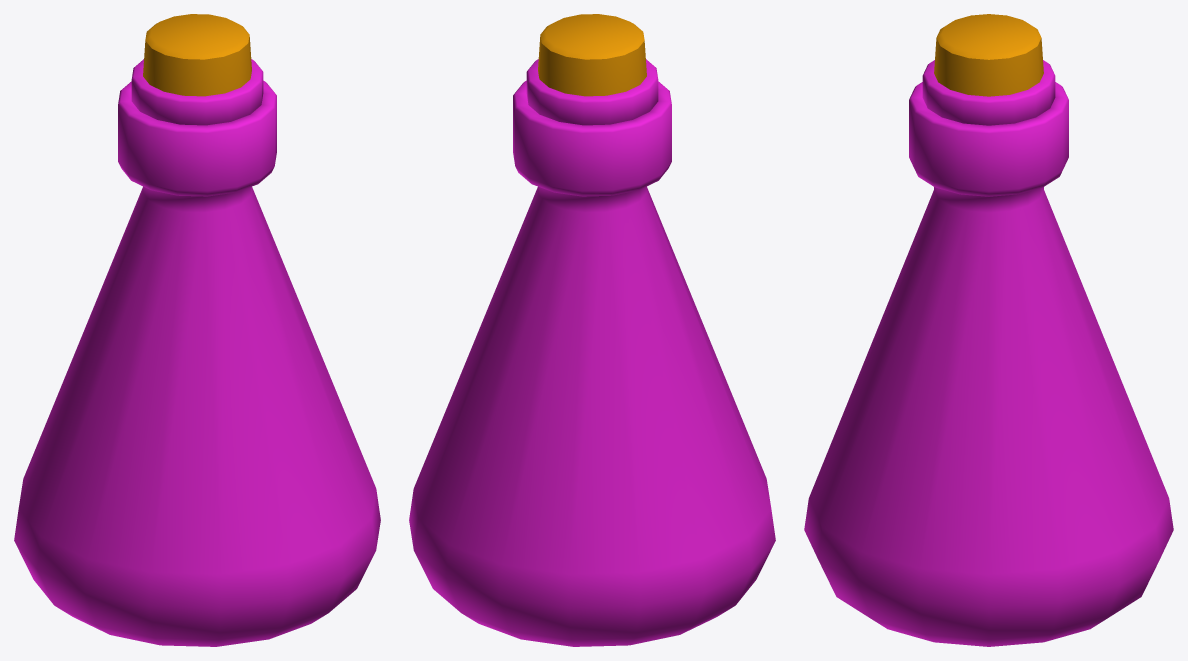
Rendered from HyperPotion.fbx.
3 renders of one model, left to right at view 1: azimuth 30°, elevation 25°; view 2: azimuth 150°, elevation 25°; view 3: azimuth 270°, elevation 25°, orthographic.
Parts seen in each view (by area): view 1: Glass, Cork; view 2: Glass, Cork; view 3: Glass, Cork.
Part boxes in pixels (x1,y1,x2,y2): Glass: (14,59,380,646); Cork: (143,14,251,96); Glass: (409,59,775,646); Cork: (538,14,646,96); Glass: (804,60,1173,646); Cork: (934,14,1043,96).
Size of the model in its own units: 10.41 by 17.55 by 10.41.
